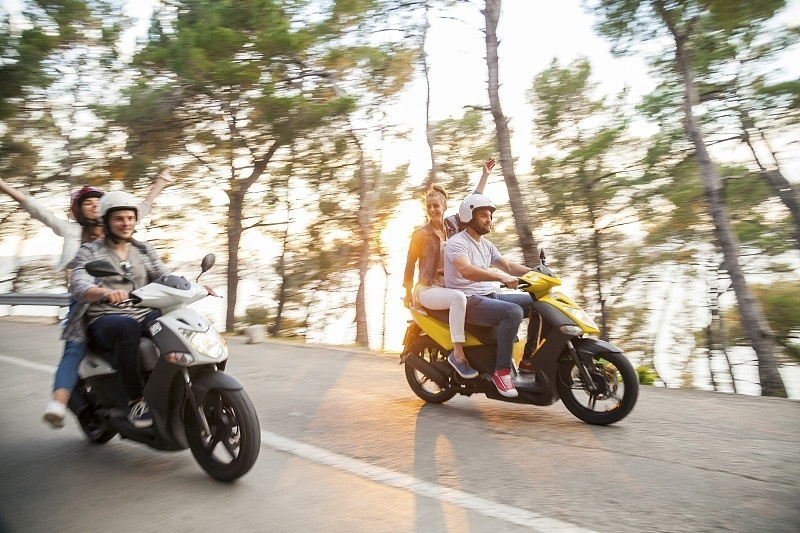non-vehicle: (44, 252, 272, 485), (388, 252, 653, 433)
